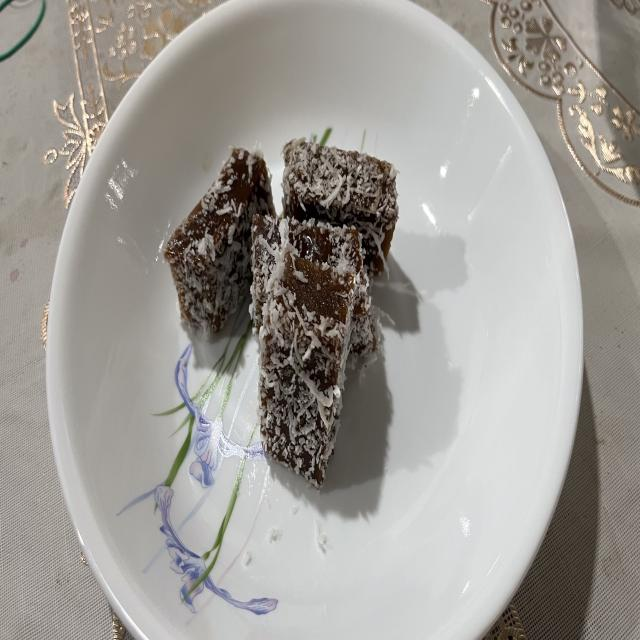kaswi: (259, 242, 354, 487), (164, 149, 275, 336), (251, 216, 374, 353), (282, 138, 399, 276)
